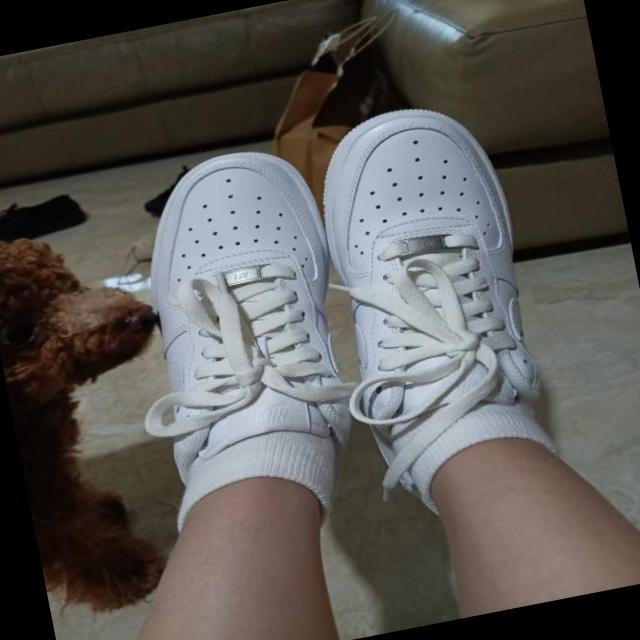nike_original_airforce: (113, 130, 380, 513), (300, 86, 560, 460)
